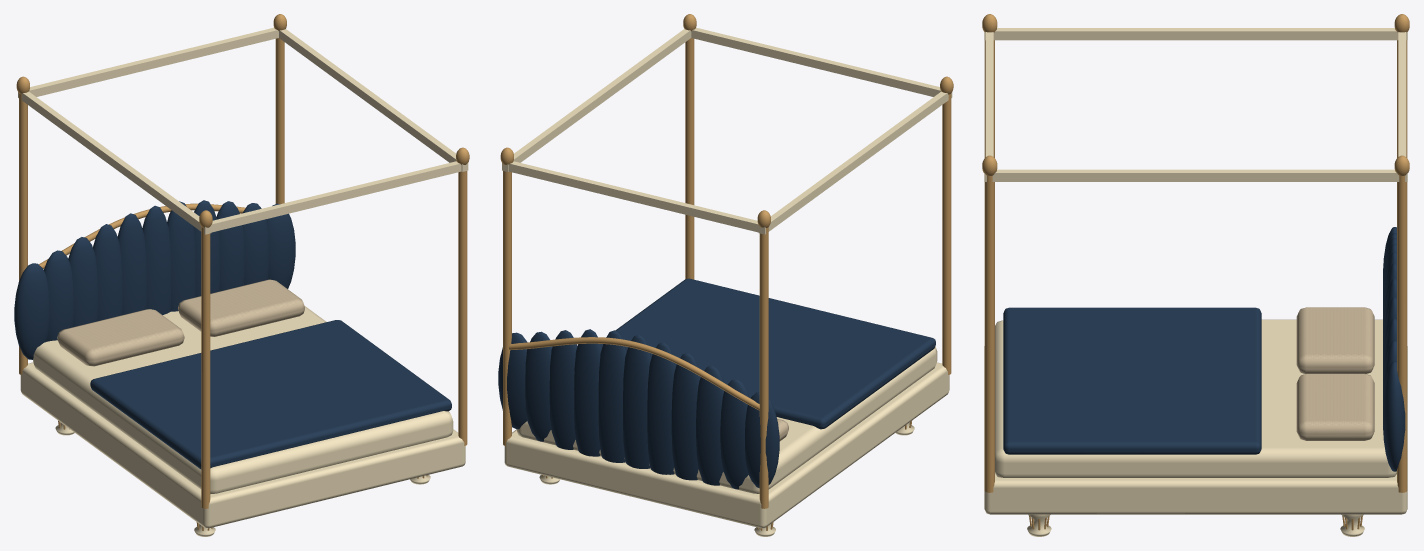
Rendered from bed_canopy_palais-7e1376f3ee96.glb.
3 views of the same model, side by side, from view 1: azimuth 30°, elevation 25°; view 2: azimuth 150°, elevation 25°; view 3: azimuth 270°, elevation 25° (orthographic). The views are drawn at different scales.
Visible parts, largest first — view 1: surface_navy, surface_ivory, surface_brass, surface_linen; view 2: surface_navy, surface_ivory, surface_brass; view 3: surface_ivory, surface_navy, surface_linen, surface_brass.
Part boxes in pixels (x1,y1,x2,y2): surface_navy: [14, 200, 451, 469]; surface_ivory: [18, 27, 468, 536]; surface_brass: [16, 14, 469, 530]; surface_linen: [57, 279, 304, 366]; surface_navy: [498, 278, 935, 489]; surface_ivory: [502, 27, 952, 536]; surface_brass: [500, 14, 953, 530]; surface_ivory: [984, 28, 1407, 536]; surface_navy: [1003, 227, 1405, 471]; surface_linen: [1296, 307, 1374, 440]; surface_brass: [982, 14, 1409, 530].
Size of the model in its own units: 1.73 by 2.03 by 2.03.
4 materials, 1 textured.
